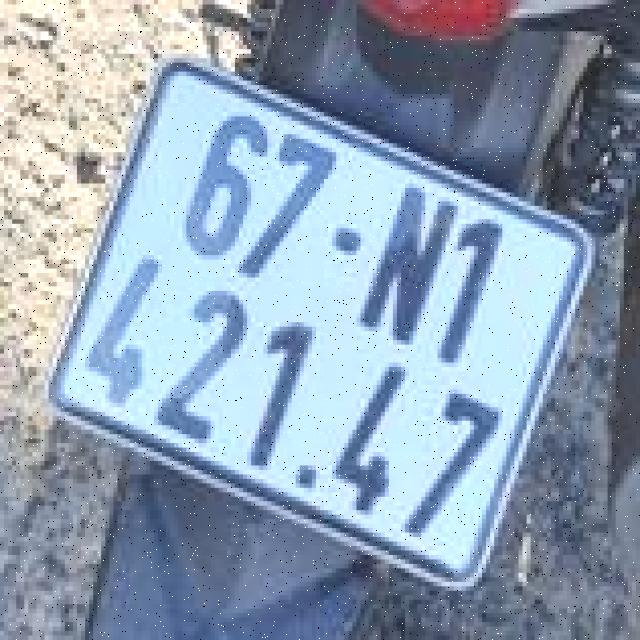1: (221, 295, 331, 485), (425, 200, 522, 370)
2: (138, 267, 272, 465)
4: (61, 242, 191, 429), (321, 342, 435, 533)
6: (168, 94, 285, 275)
7: (387, 371, 518, 554), (227, 117, 350, 304)
N: (348, 171, 466, 357)
